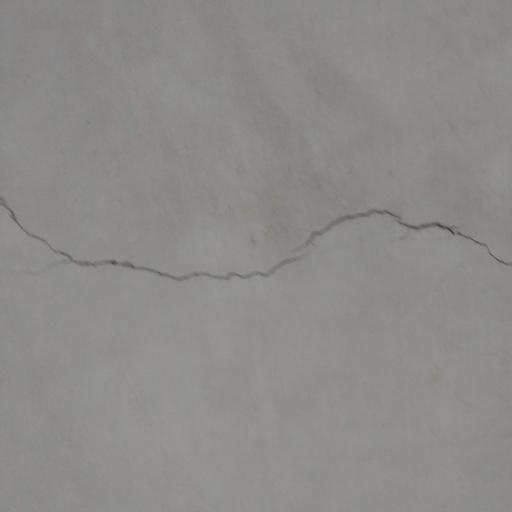minor_crack: (0, 173, 512, 308)
